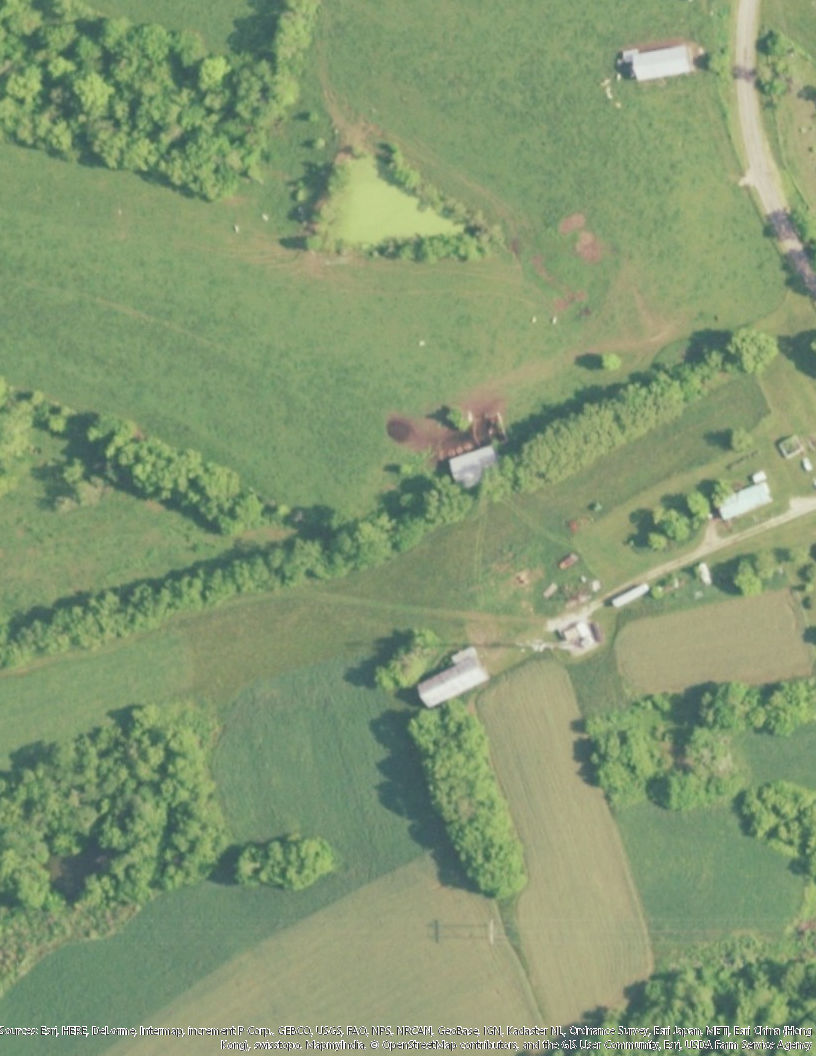cafo: (407, 643, 499, 711), (615, 35, 707, 90), (437, 443, 505, 489)
